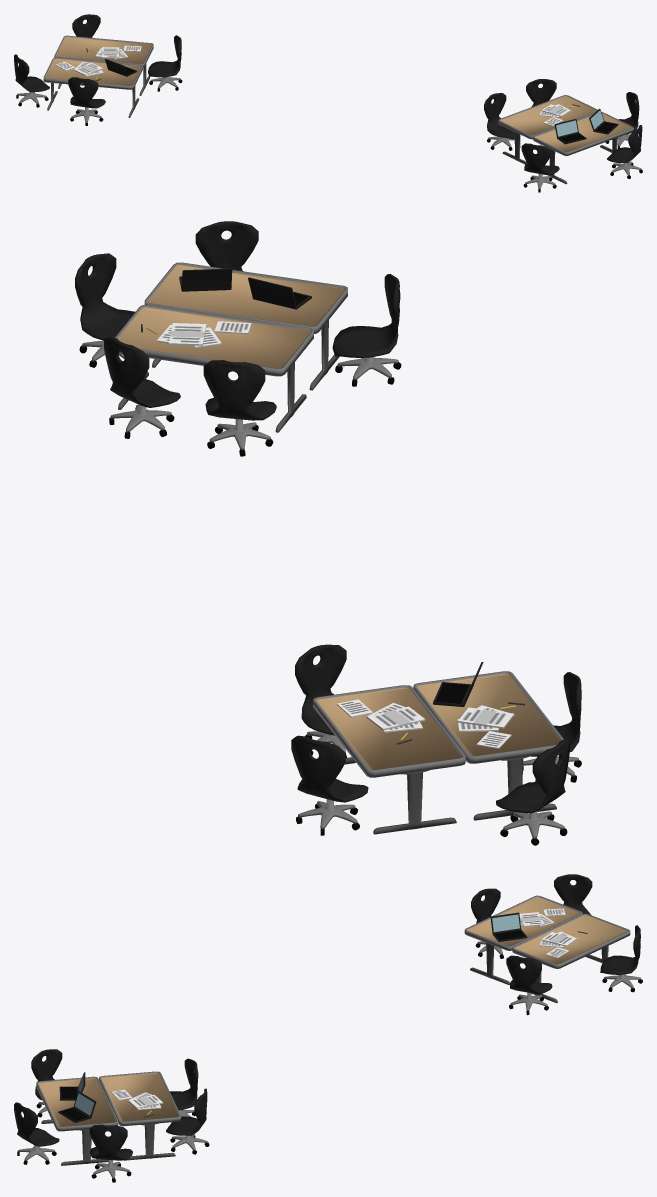
The model's file is d-roomcomp-l-studentClub-in.glb.
3 renders of one model, top to bottom at view 1: azimuth 30°, elevation 25°; view 2: azimuth 150°, elevation 25°; view 3: azimuth 270°, elevation 25°, orthographic. The views are drawn at different scales.
Parts seen in each view (by area): view 1: officeDesk.014, officeDesk.011, officeDesk.013, officeDesk.012, officeChair.026, officeChair.025, officeChair.021, officeChair.027, officeChair.024, officeChair.029, officeChair.022, laptop.009 (+7 smaller); view 2: officeDesk.011, officeDesk.014, officeDesk.012, officeDesk.013, officeChair.021, officeChair.028, officeChair.022, officeChair.027, officeChair.023, officeChair.025, officeChair.029, officeChair.024 (+6 smaller); view 3: officeDesk.014, officeDesk.011, officeDesk.013, officeDesk.012, officeChair.023, officeChair.029, officeChair.024, officeChair.022, officeChair.028, officeChair.027, officeChair.025, officeChair.026 (+6 smaller).
Part boxes in pixels (bbox=[...]): officeDesk.014: bbox=[498, 95, 597, 164]; officeDesk.011: bbox=[54, 35, 153, 95]; officeDesk.013: bbox=[533, 112, 633, 184]; officeDesk.012: bbox=[43, 57, 142, 117]; officeChair.026: bbox=[68, 77, 105, 125]; officeChair.025: bbox=[521, 143, 559, 192]; officeChair.021: bbox=[484, 93, 514, 150]; officeChair.027: bbox=[14, 54, 49, 107]; officeChair.024: bbox=[607, 125, 642, 178]; officeChair.029: bbox=[148, 35, 182, 91]; officeChair.022: bbox=[526, 79, 556, 106]; laptop.009: bbox=[554, 119, 586, 144]; officeDesk.011: bbox=[313, 685, 465, 834]; officeDesk.014: bbox=[115, 304, 313, 432]; officeDesk.012: bbox=[413, 671, 563, 820]; officeDesk.013: bbox=[144, 262, 347, 390]; officeChair.021: bbox=[203, 360, 276, 456]; officeChair.028: bbox=[291, 735, 368, 835]; officeChair.022: bbox=[104, 336, 180, 438]; officeChair.027: bbox=[496, 739, 569, 845]; officeChair.023: bbox=[75, 253, 135, 367]; officeChair.025: bbox=[332, 274, 401, 386]; officeChair.029: bbox=[295, 644, 346, 757]; officeChair.024: bbox=[195, 221, 258, 271]; officeDesk.014: bbox=[99, 1071, 180, 1160]; officeDesk.011: bbox=[512, 913, 630, 1003]; officeDesk.013: bbox=[36, 1076, 118, 1165]; officeDesk.012: bbox=[464, 895, 582, 984]; officeChair.023: bbox=[89, 1124, 132, 1182]; officeChair.029: bbox=[506, 955, 552, 1015]; officeChair.024: bbox=[14, 1102, 59, 1164]; officeChair.022: bbox=[166, 1088, 209, 1154]; officeChair.028: bbox=[600, 925, 642, 992]; officeChair.027: bbox=[554, 874, 592, 915]; officeChair.025: bbox=[31, 1049, 62, 1117]; officeChair.026: bbox=[471, 888, 503, 958].
Bounding box in the file's own units: 12.44 × 1.27 × 12.99.
Materials: 2 (2 with a texture image).
